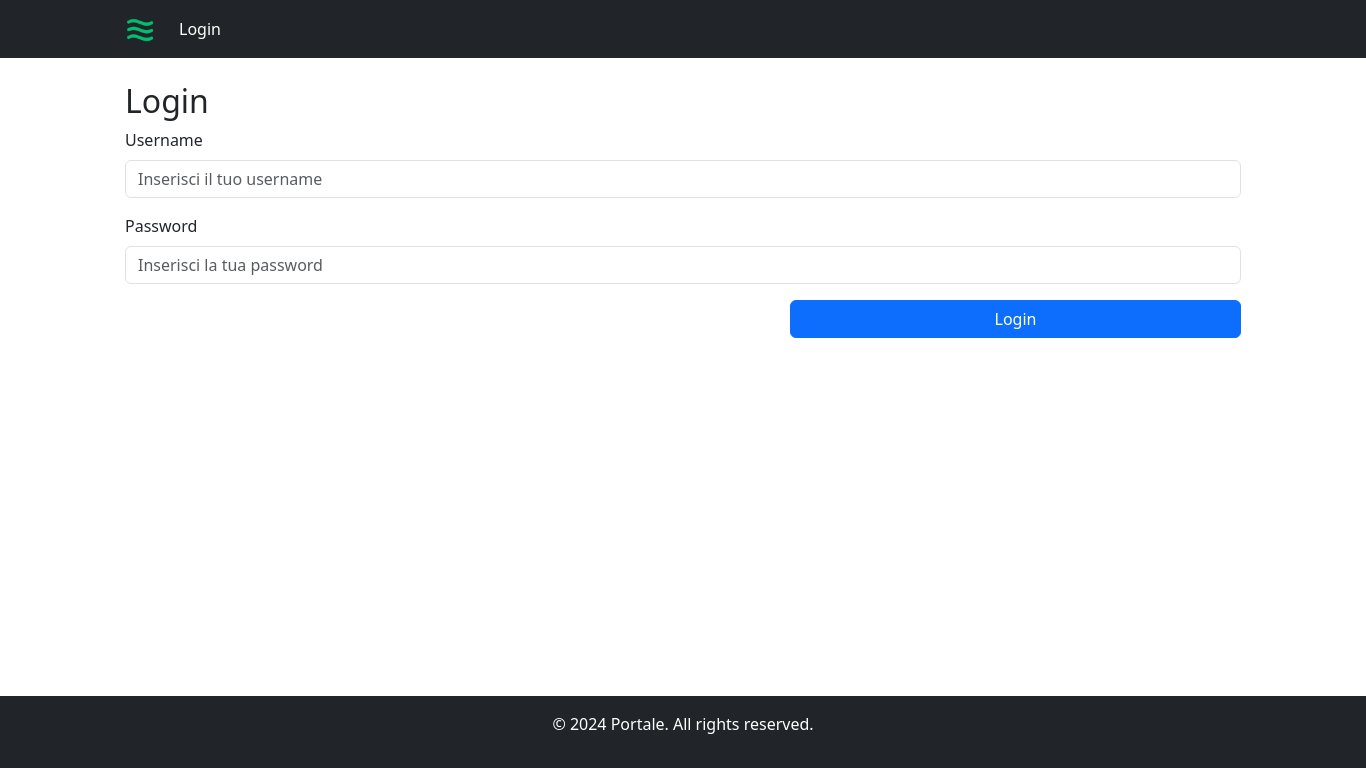
Test Header.jsx › Test presenza link a Home, Prodotti, and Statistiche
Type "Aldo" into the field with id "username".
click(683, 179); type("Aldo")  # box [125,160,1241,198]
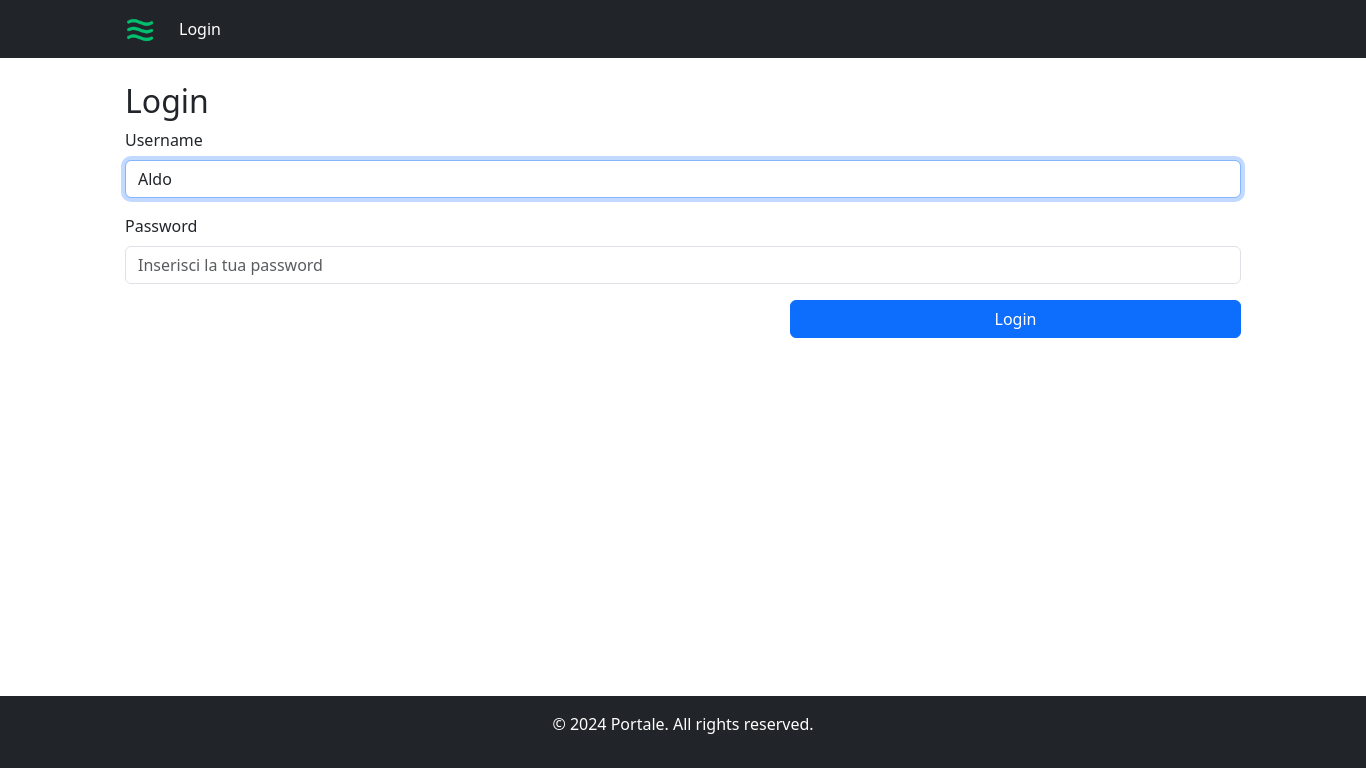
Type "123" into the password field labelled "Password".
click(683, 265); type("123")  # box [125,246,1241,284]
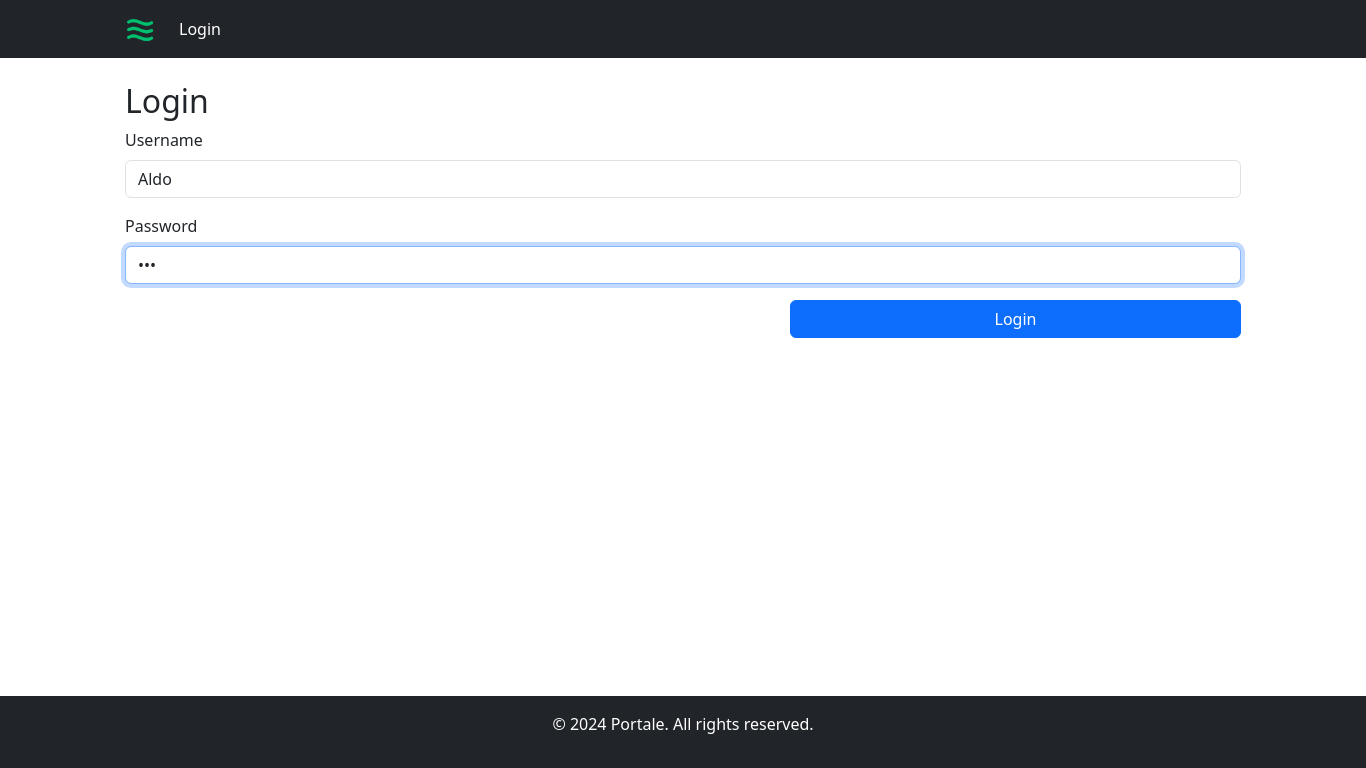
Click the button with id "button-login".
click(1016, 319)  # box [790,300,1241,338]
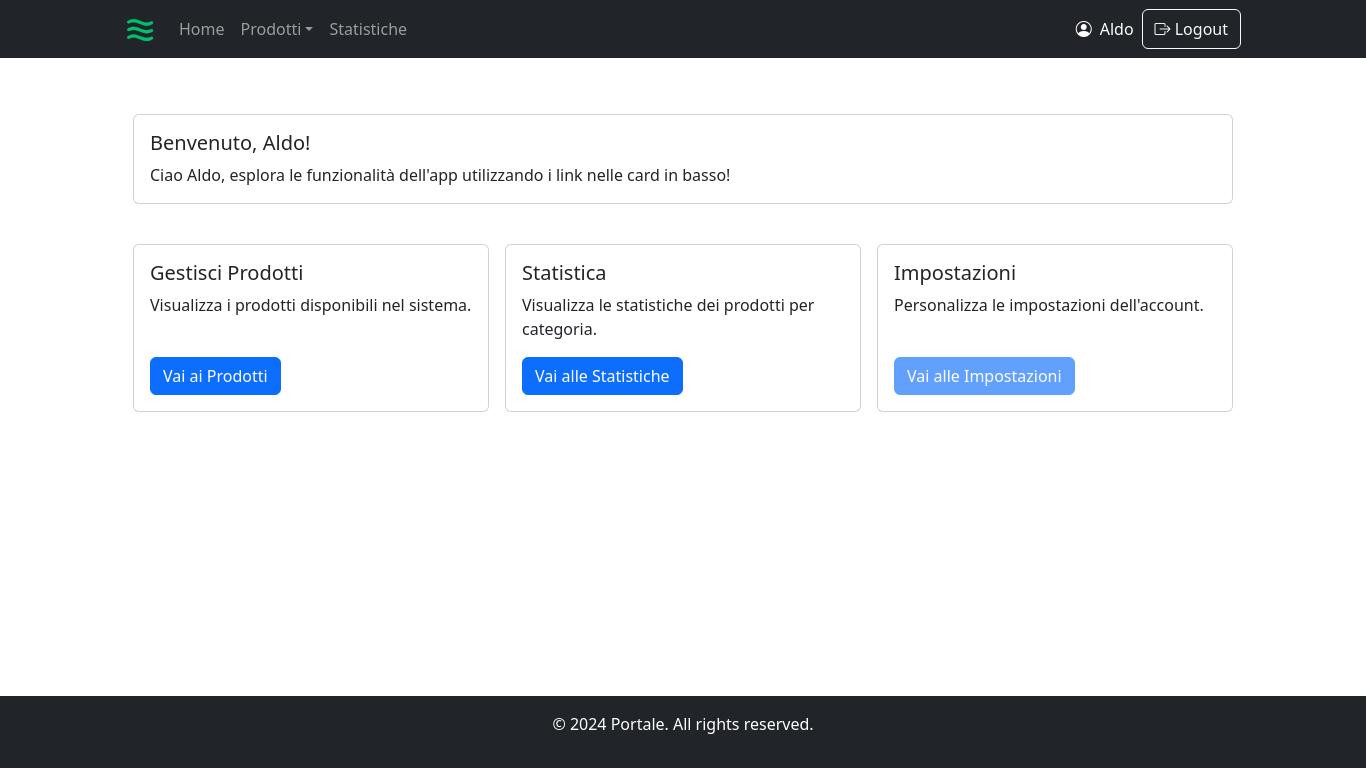
Now the link "Home" is shown, box [179,18,224,40]
Now the button "Vai ai Prodotti" is shown, box [150,357,281,395]
Now the link "Statistiche" is shown, box [330,18,407,40]
